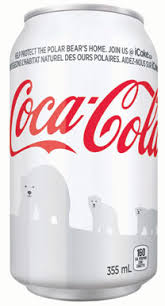can: (7, 2, 162, 303)
